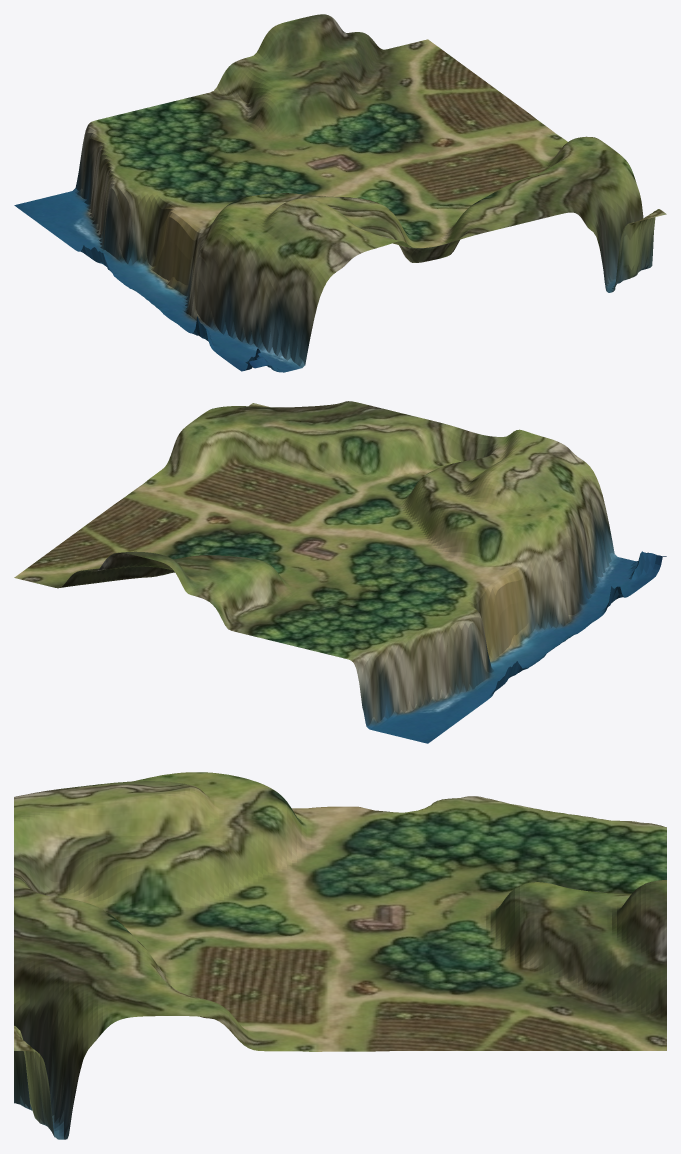
File: western_fields_chunk.glb
3 renders of one model, top to bottom at view 1: azimuth 30°, elevation 25°; view 2: azimuth 150°, elevation 25°; view 3: azimuth 270°, elevation 25°, orthographic. The views are drawn at different scales.
Visible parts, largest first — view 1: TerrainMesh; view 2: TerrainMesh; view 3: TerrainMesh.
Boxes of the visible parts, x1,y1,x2,y2 form: TerrainMesh: (14,14,666,372); TerrainMesh: (14,401,666,743); TerrainMesh: (14,772,666,1139).
Size of the model in its own units: 100 by 26.99 by 100.
1 material, 1 textured.
